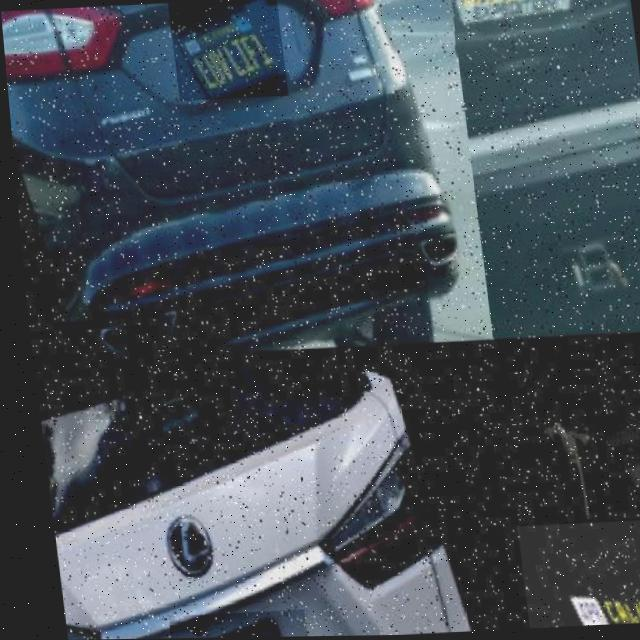LicensePlate: (506, 520, 640, 630), (167, 0, 286, 101), (448, 0, 591, 64), (156, 609, 295, 639)
